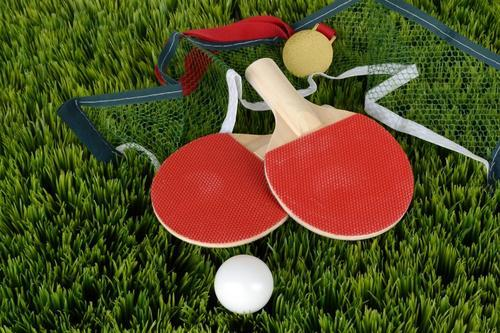ball: (209, 251, 276, 316), (278, 27, 335, 79)
